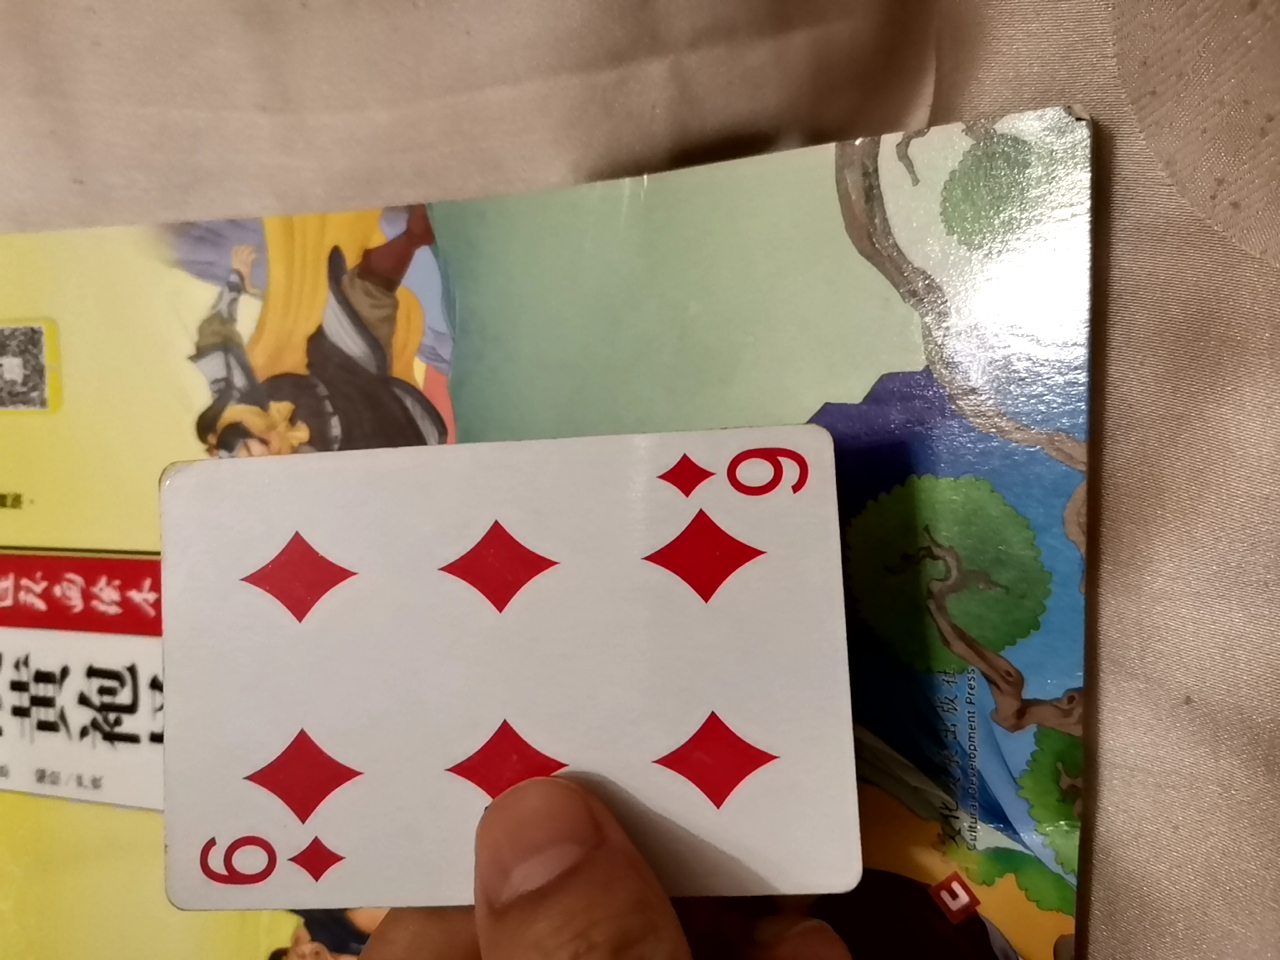fk 6: (105, 415, 848, 937)
